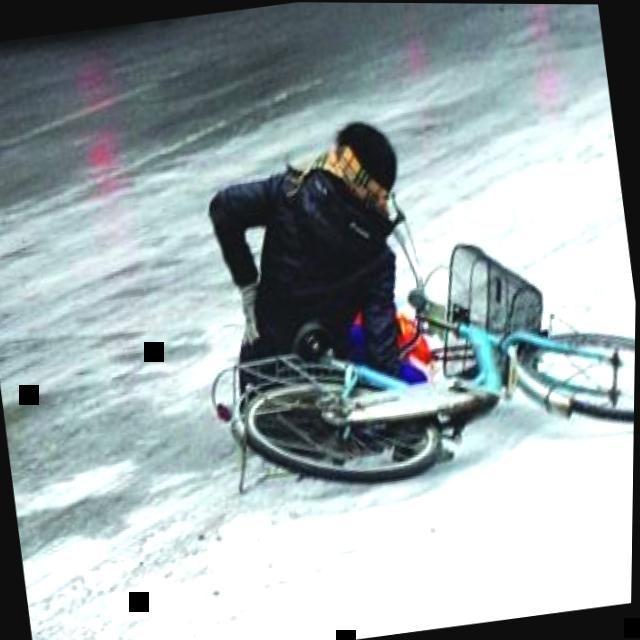Fall-Detected: (174, 84, 455, 429)
